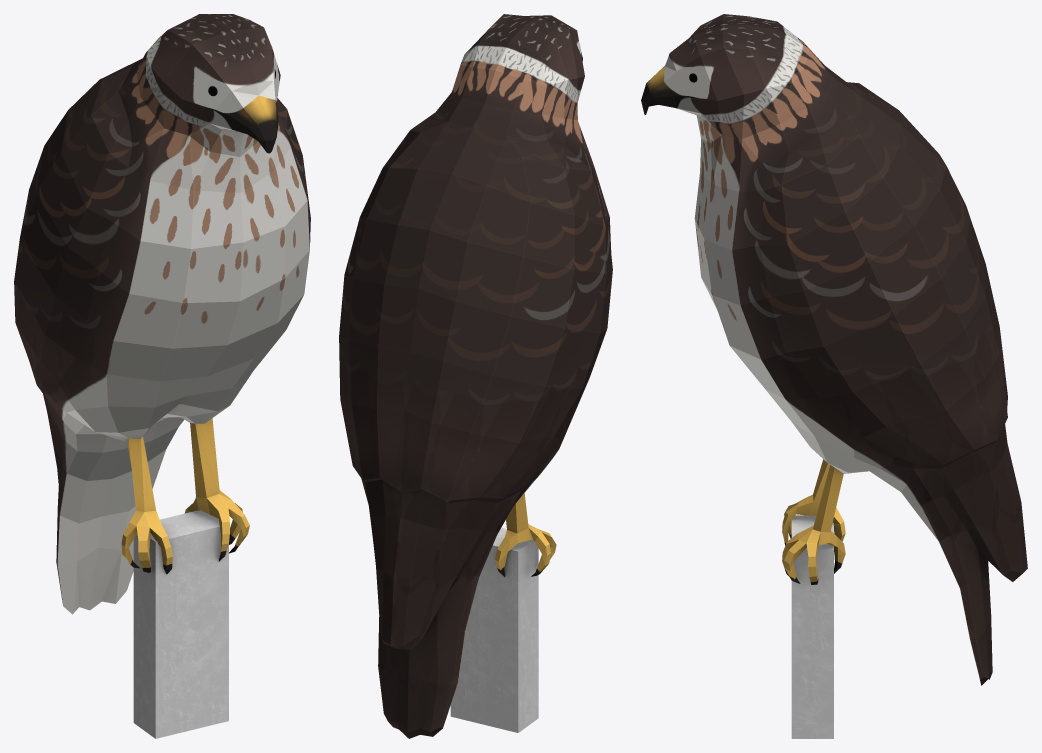
File: e0776a25-65d6-443d-9844-696ca2efa126.glb
The picture shows the model from 3 angles, left to right: view 1: azimuth 30°, elevation 25°; view 2: azimuth 150°, elevation 25°; view 3: azimuth 270°, elevation 25°; orthographic projection. The views are drawn at different scales.
Parts seen in each view (by area): view 1: NorthernHarrier_Mesh; view 2: NorthernHarrier_Mesh; view 3: NorthernHarrier_Mesh.
Boxes of the visible parts, x1,y1,x2,y2 form: NorthernHarrier_Mesh: (14, 14, 310, 738); NorthernHarrier_Mesh: (339, 14, 612, 738); NorthernHarrier_Mesh: (641, 14, 1027, 738).
Bounding box in the file's own units: 1.45 × 4.15 × 2.09.
1 material, 1 textured.
